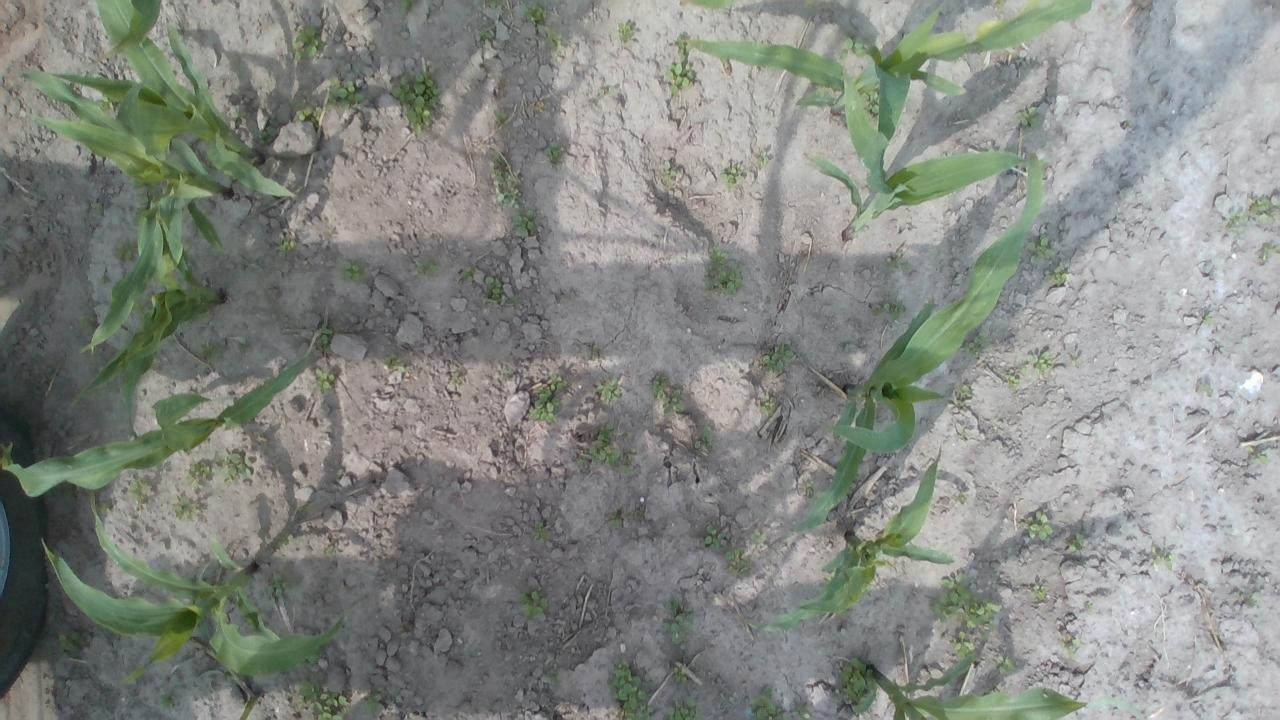Maize: (789, 155, 1045, 534), (17, 65, 237, 355), (0, 323, 324, 500), (39, 496, 345, 678), (51, 0, 296, 198), (685, 0, 1091, 119), (808, 62, 1050, 240), (742, 452, 955, 634), (68, 201, 225, 434), (868, 652, 1146, 720), (101, 0, 238, 65), (686, 0, 892, 13)
Weeds: (929, 571, 999, 644), (390, 71, 442, 138), (576, 422, 638, 478), (607, 659, 654, 720), (698, 246, 745, 296), (831, 655, 875, 708), (297, 679, 351, 720), (528, 372, 566, 422), (130, 178, 163, 226), (662, 600, 695, 646), (326, 75, 366, 111), (650, 372, 684, 414), (749, 684, 786, 720), (292, 24, 326, 63), (214, 454, 253, 485), (759, 340, 795, 373), (1017, 510, 1055, 541), (264, 572, 296, 608), (518, 588, 550, 622), (662, 62, 694, 96), (1245, 196, 1280, 227), (859, 84, 884, 124), (722, 546, 752, 578), (182, 461, 214, 490), (664, 698, 704, 720), (948, 628, 976, 659), (1026, 234, 1054, 265), (170, 495, 202, 521), (58, 630, 90, 655), (362, 683, 386, 716), (1025, 350, 1054, 377), (871, 299, 908, 320), (1221, 210, 1249, 236), (511, 208, 537, 236), (250, 125, 277, 151), (719, 162, 744, 190), (699, 522, 724, 550), (962, 332, 991, 356), (839, 33, 866, 58), (520, 2, 548, 26), (294, 101, 322, 125), (313, 366, 336, 395), (1002, 364, 1028, 389), (1016, 105, 1042, 130), (694, 426, 718, 453), (596, 378, 623, 402), (1042, 261, 1067, 286), (128, 478, 152, 504), (340, 258, 366, 282), (1151, 548, 1175, 573), (494, 188, 520, 211), (197, 342, 224, 364), (489, 166, 522, 184), (482, 275, 503, 303), (1058, 636, 1082, 660), (886, 250, 912, 272), (659, 160, 679, 188), (543, 24, 564, 50), (316, 322, 333, 354), (113, 240, 136, 263), (954, 383, 975, 408), (1243, 446, 1269, 466), (614, 22, 637, 44), (383, 353, 408, 373), (1257, 243, 1280, 264), (415, 258, 438, 279), (76, 314, 100, 334), (92, 92, 115, 112), (621, 504, 647, 521), (544, 141, 564, 163), (674, 36, 692, 60), (994, 654, 1016, 673), (1066, 532, 1086, 552), (130, 298, 149, 318), (227, 104, 248, 122), (954, 422, 974, 440), (532, 520, 550, 540), (302, 648, 324, 664), (604, 512, 622, 531), (159, 692, 178, 710), (491, 108, 508, 128), (1194, 381, 1214, 398), (1027, 584, 1047, 601), (790, 704, 811, 720), (801, 480, 818, 499), (747, 528, 767, 544), (1244, 591, 1262, 608), (761, 396, 776, 416), (459, 265, 475, 283), (816, 82, 836, 96), (756, 150, 770, 170), (671, 666, 688, 682), (478, 26, 496, 41), (983, 681, 1002, 695), (954, 490, 970, 506), (95, 499, 112, 514), (1071, 353, 1087, 368), (276, 533, 293, 547), (590, 344, 602, 362), (88, 201, 104, 214), (399, 0, 416, 12), (549, 670, 563, 684), (278, 240, 294, 252), (202, 158, 215, 172), (1202, 313, 1216, 326), (237, 340, 251, 352), (450, 376, 464, 387), (599, 86, 614, 96), (1083, 602, 1095, 614), (988, 0, 1008, 7), (324, 546, 337, 556), (489, 0, 502, 10), (491, 151, 502, 162), (508, 295, 521, 304), (326, 229, 336, 238)
